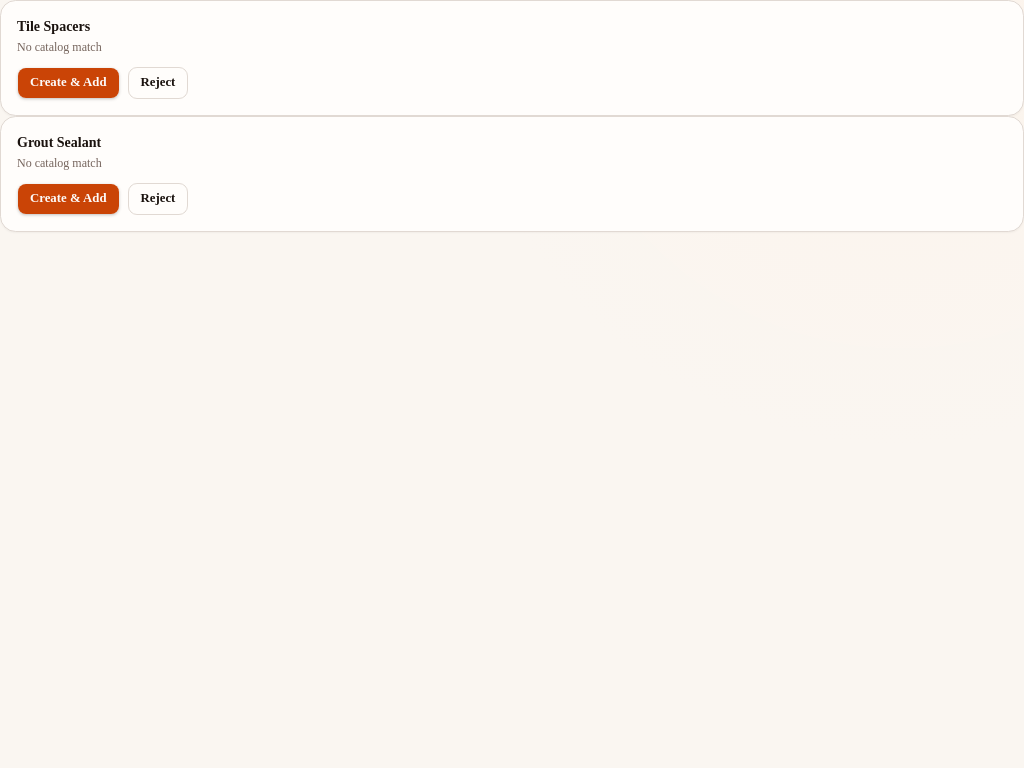
Scenario: MaterialResourceAcceptDialog › uses unique field ids when multiple dialogs render on the same page
Step 1. Click the button "Create & Add" below "Tile Spacers" → (68, 83), box [17,67,120,99]
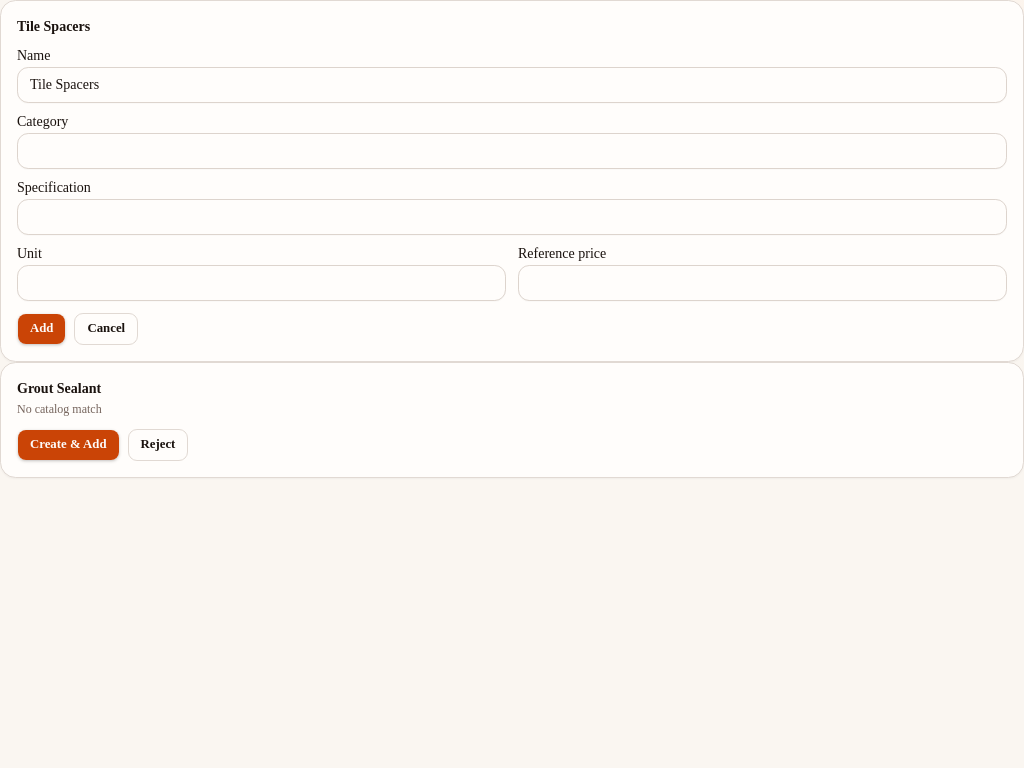
Step 2. Click the button "Create & Add" → (68, 445), box [17,429,120,461]
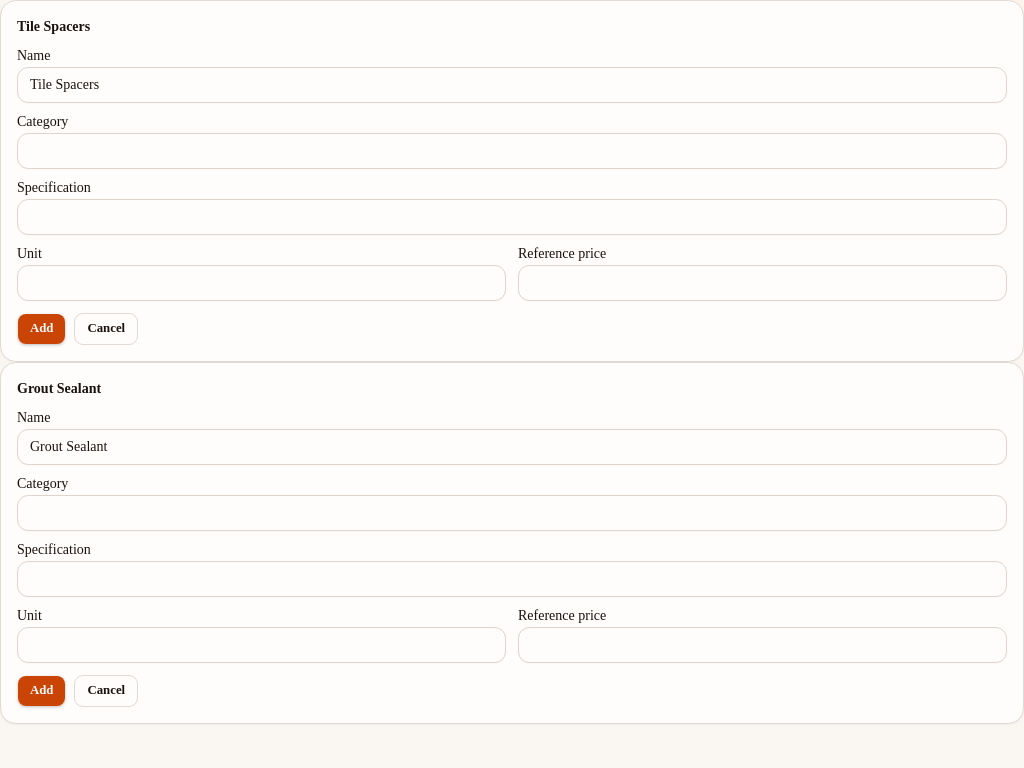
expect the number of fields labelled "Name" is 2: met, box [17,67,1007,103]; [17,429,1007,465]
